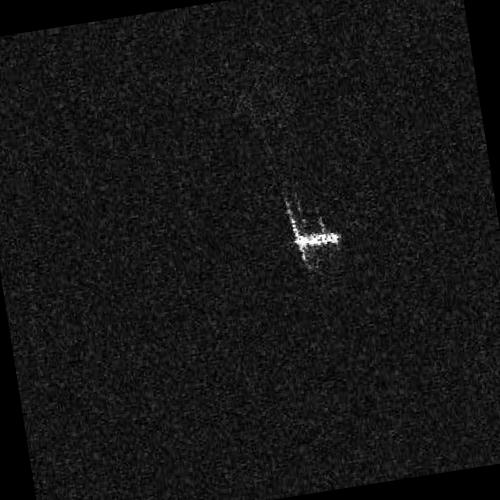ship: (293, 230, 342, 251)
